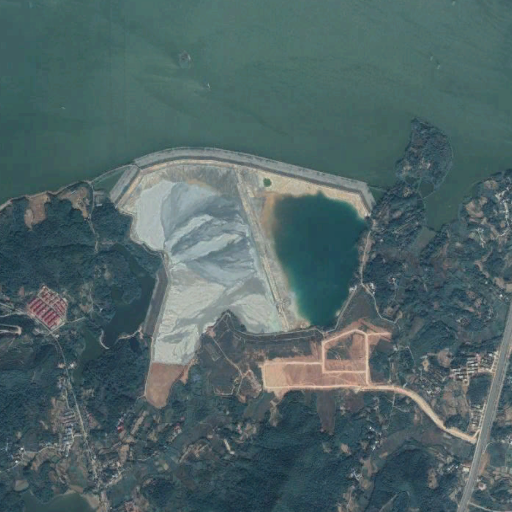tp: (91, 147, 375, 409)
